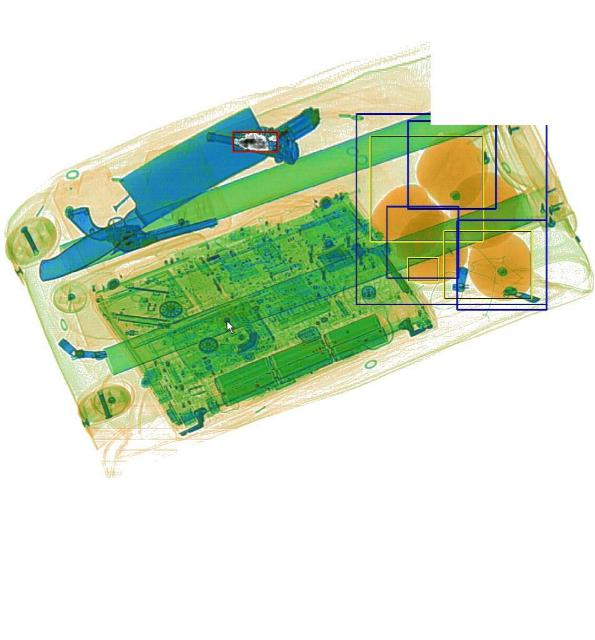Gun: (66, 173, 219, 264), (203, 81, 322, 169)
Knife: (14, 103, 276, 284)
